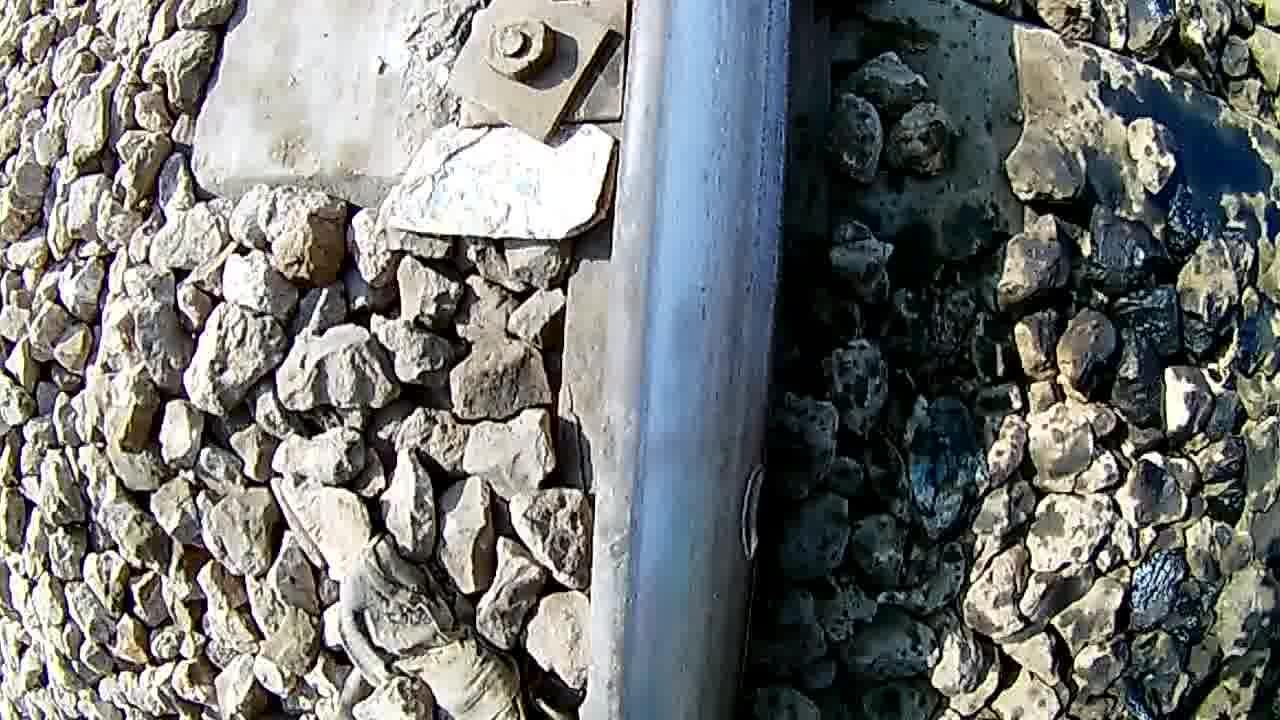crack: (711, 406, 776, 583)
